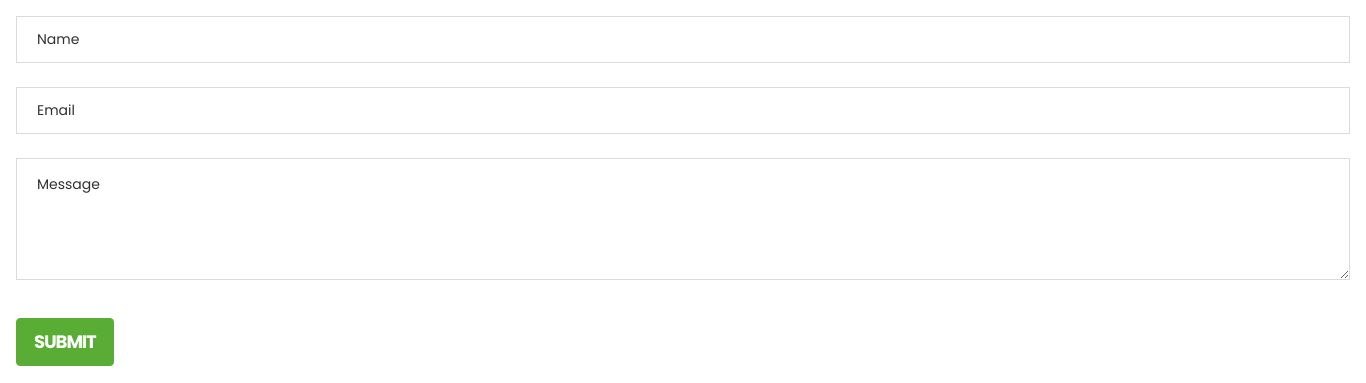
Test: Testing contact form › shows validation error on email invalid
Step 1. Type "invalid@email" into the field labelled "Email" → (683, 110), box 16,87 -> 1350,134
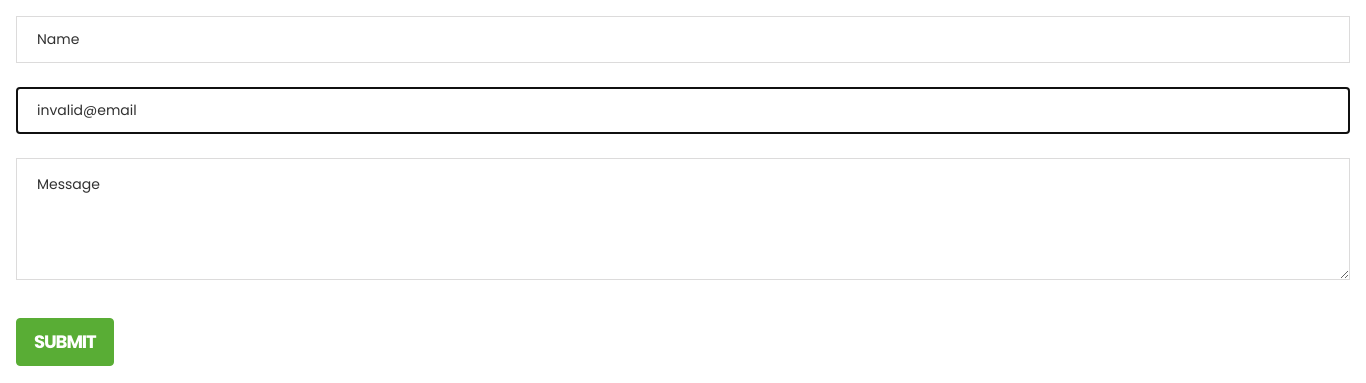
Step 2. Click the button "Submit" → click(65, 342), box 16,318 -> 114,366
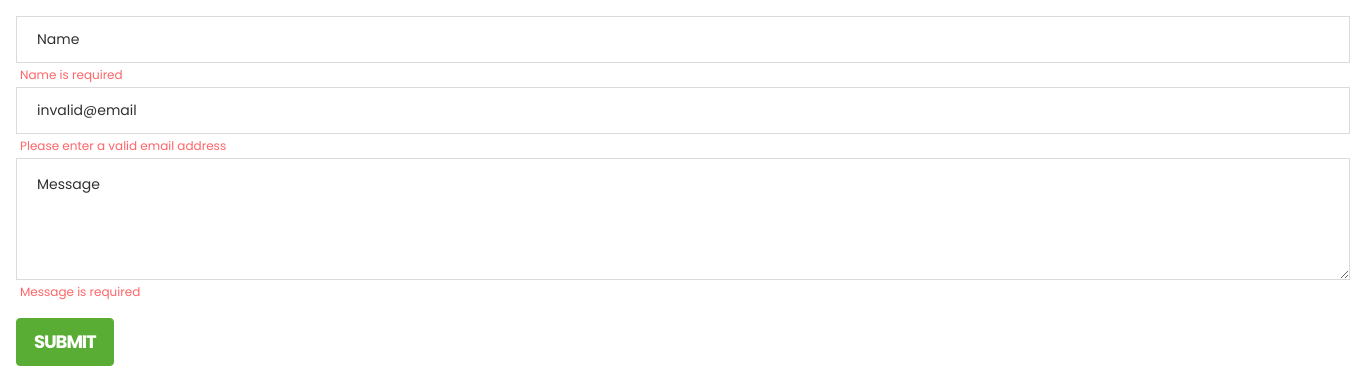
Check: the text "Please enter a valid email address" is shown, box 20,137 -> 226,154
